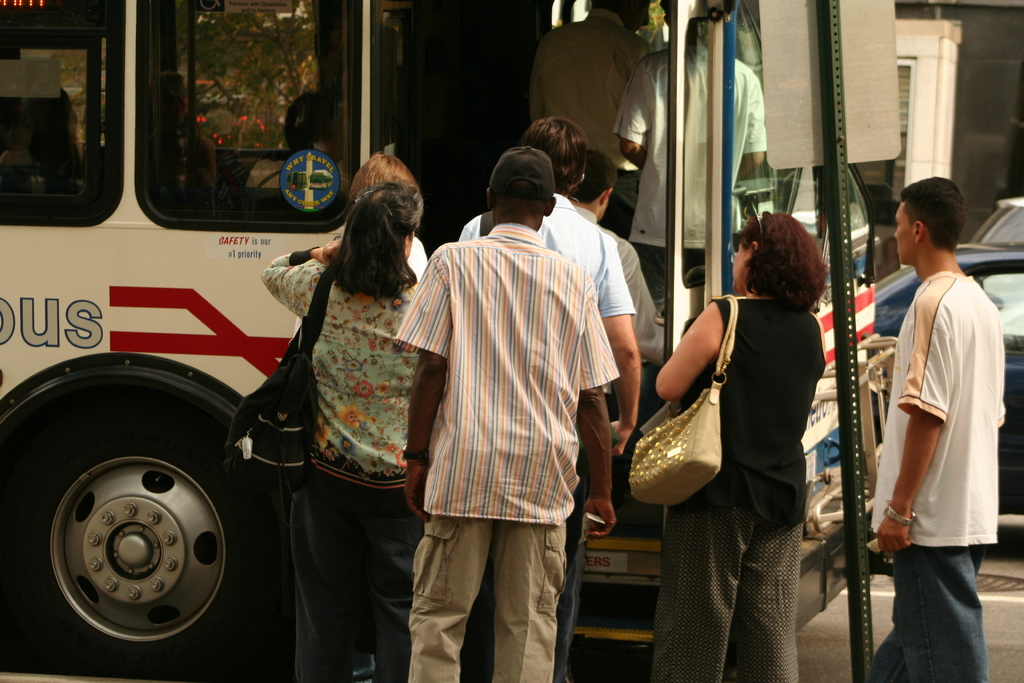cars: (875, 240, 1023, 572)
